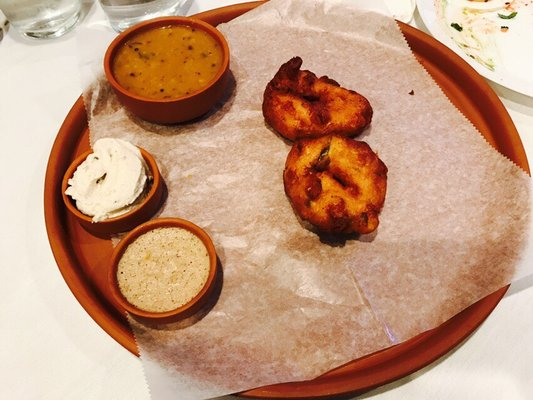sushi: (104, 17, 232, 126), (61, 138, 168, 240)
